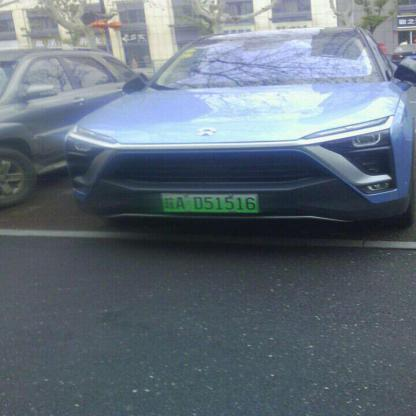lp: (161, 194, 257, 212)
